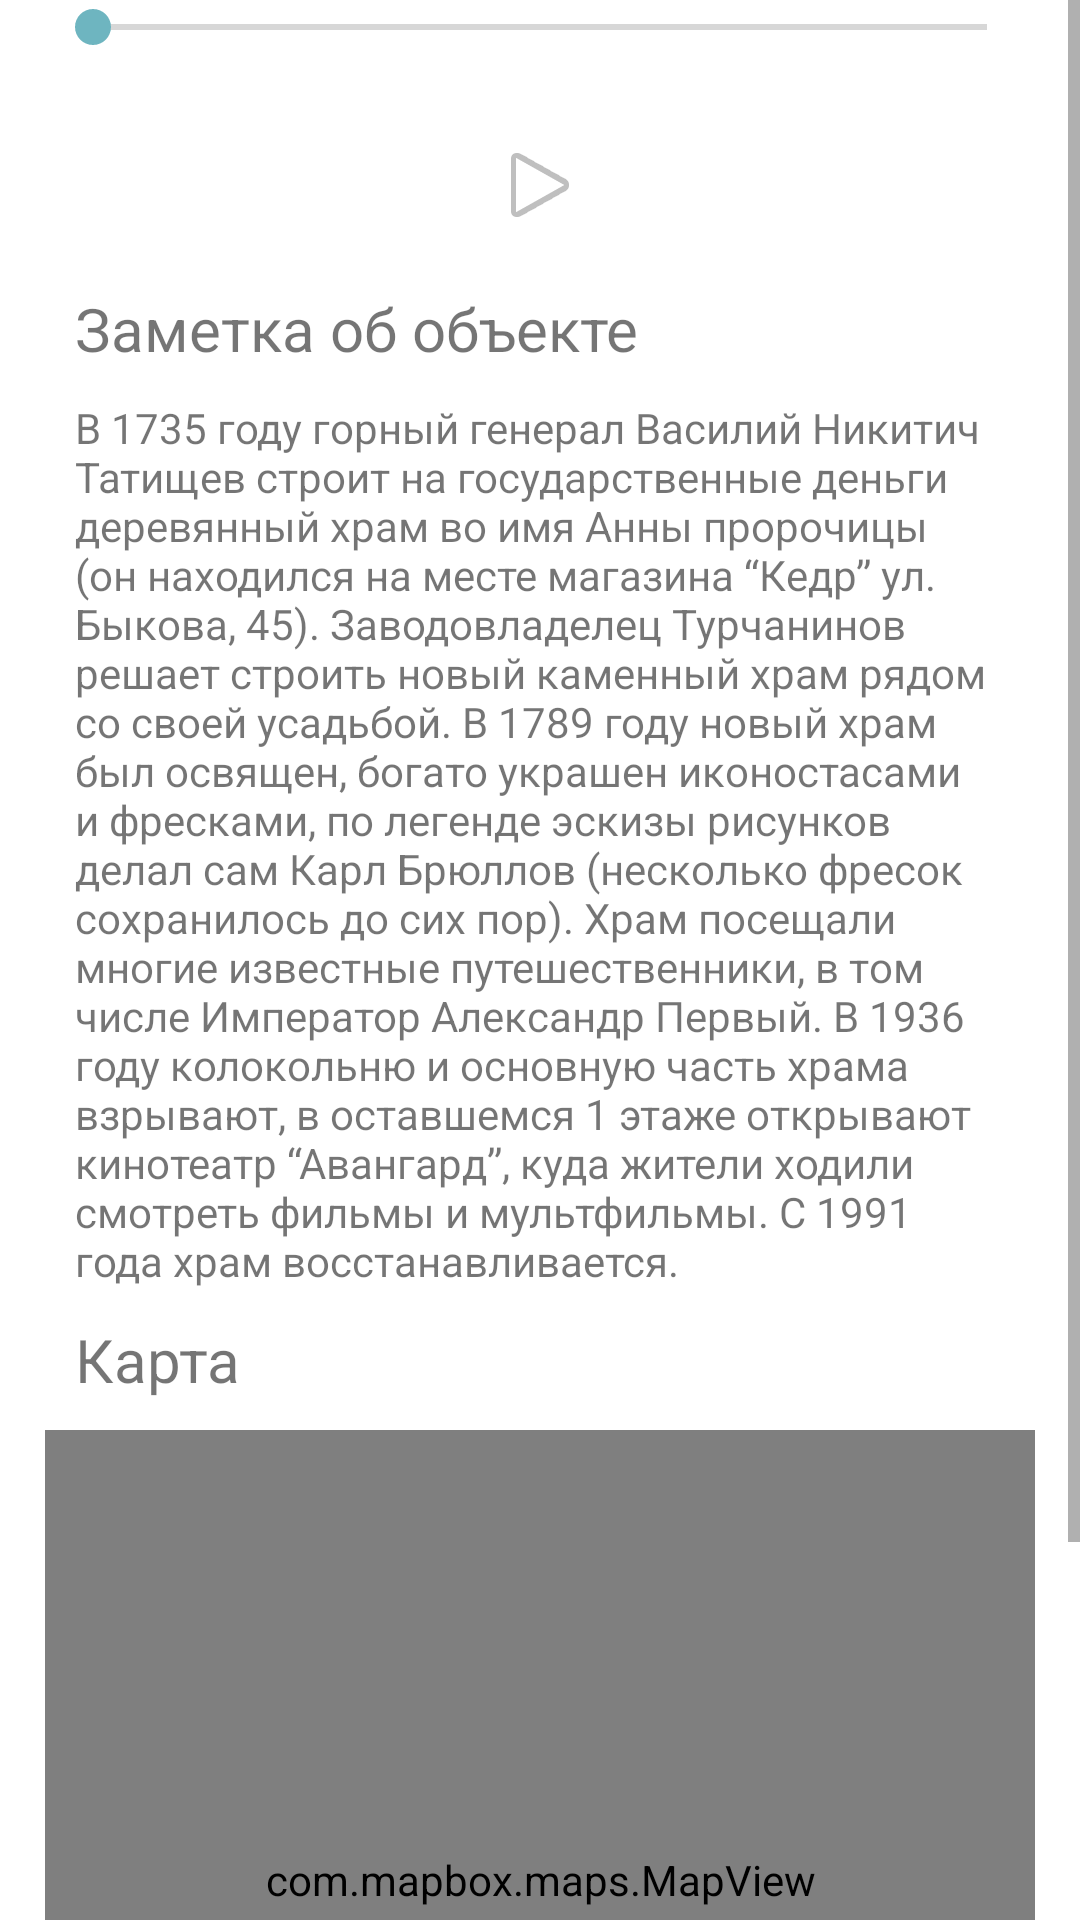

Point at icon controls on the screen. Image size 1080*1920, points as [x,y].
play: [540,185]
